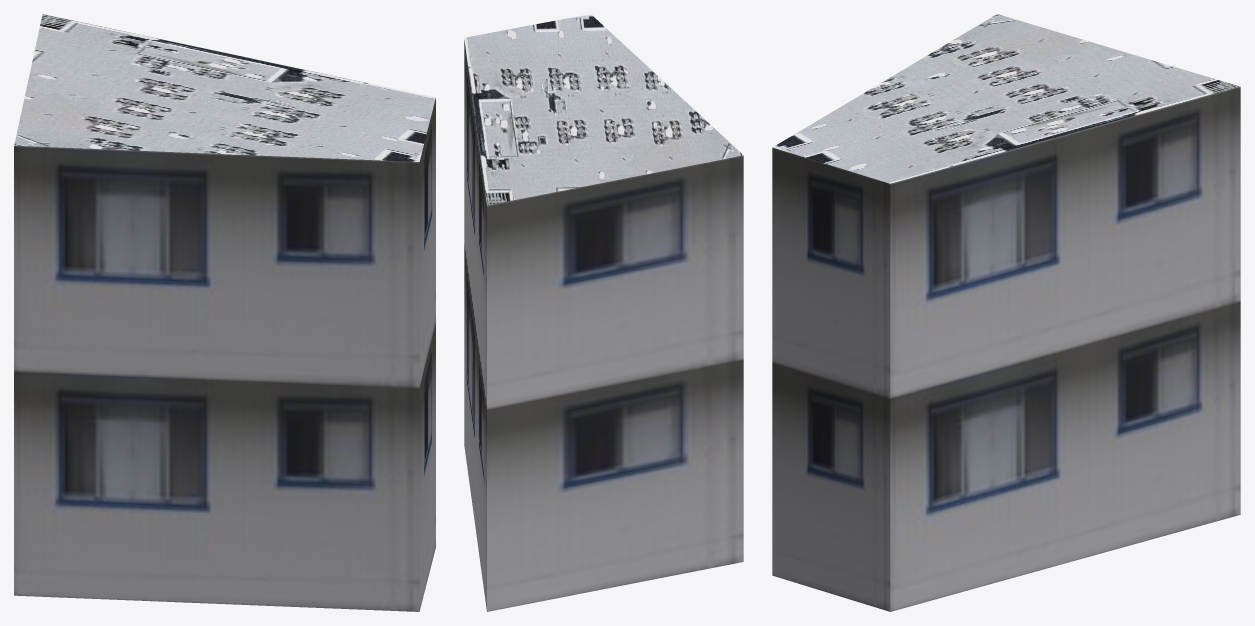
File: ResTex__3473.fbx
3 renders of one model, left to right at view 1: azimuth 30°, elevation 25°; view 2: azimuth 150°, elevation 25°; view 3: azimuth 270°, elevation 25°, orthographic. The views are drawn at different scales.
Parts seen in each view (by area): view 1: CityEngineMaterial_9_m, CityEngineMaterial_m; view 2: CityEngineMaterial_9_m, CityEngineMaterial_m; view 3: CityEngineMaterial_9_m, CityEngineMaterial_m.
Part boxes in pixels (left/top/right/bottom): CityEngineMaterial_9_m: left=14, top=98, right=435, bottom=611; CityEngineMaterial_m: left=14, top=14, right=435, bottom=161; CityEngineMaterial_9_m: left=464, top=40, right=743, bottom=611; CityEngineMaterial_m: left=464, top=14, right=743, bottom=205; CityEngineMaterial_9_m: left=772, top=86, right=1240, bottom=611; CityEngineMaterial_m: left=773, top=14, right=1239, bottom=183.
Size of the model in its own units: 5.1 by 6 by 5.94.
Materials: 2 (2 with a texture image).
